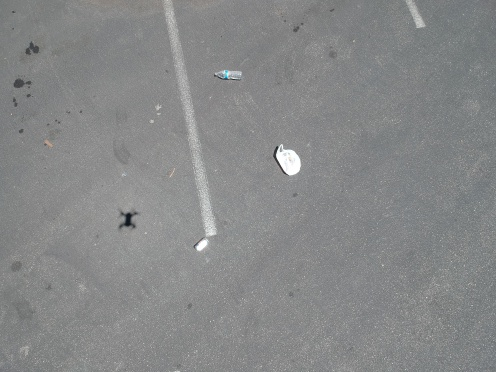bottle: (210, 66, 245, 82)
can: (188, 230, 212, 253)
plastic bag: (269, 140, 305, 179)
